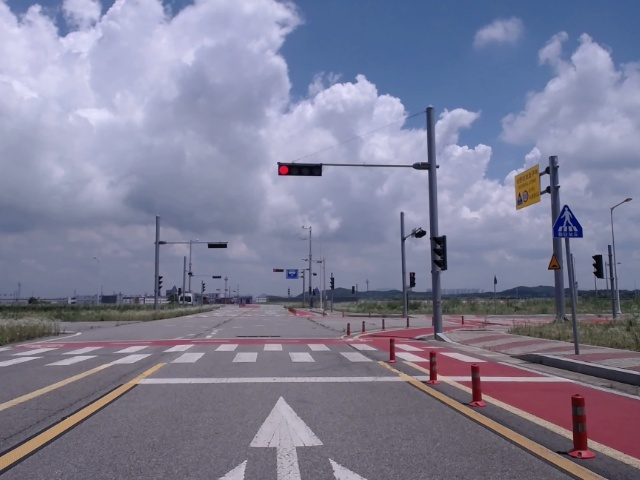red_4: (277, 163, 322, 176)
